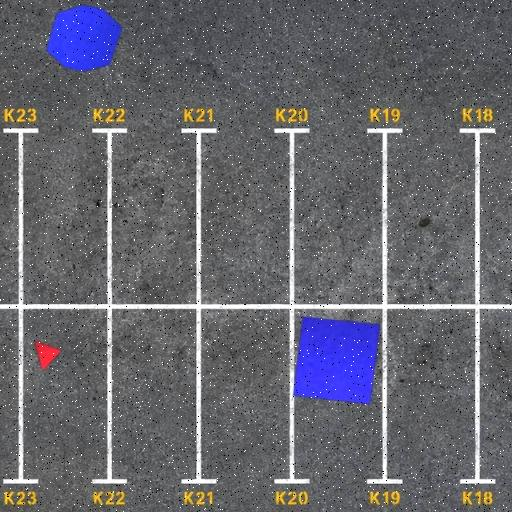BLUE_SQUARE: (292, 316, 381, 405)
